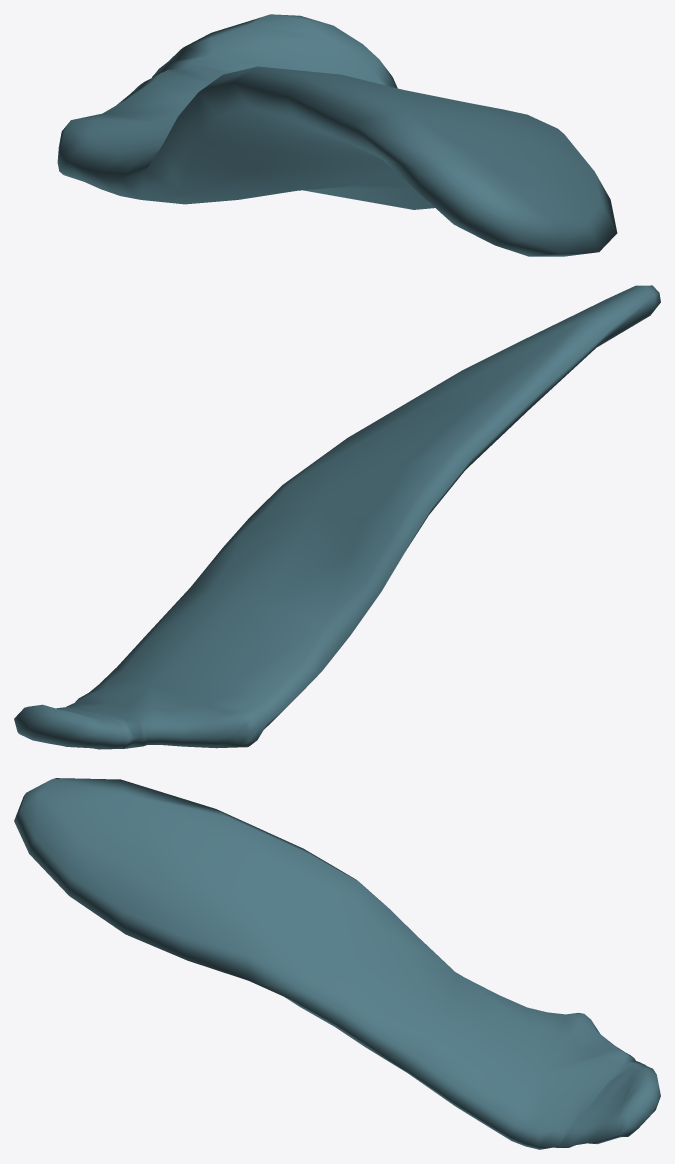
The model's file is Flexor_digiti_minimi_foot_5th_proximal_phalanx_right.glb.
The picture shows the model from 3 angles, top to bottom: view 1: azimuth 30°, elevation 25°; view 2: azimuth 150°, elevation 25°; view 3: azimuth 270°, elevation 25°; orthographic projection. The views are drawn at different scales.
Visible parts, largest first — view 1: Flexor_digiti_minimi_of_foot_on_5th_proximal_phalanx.r_Gener; view 2: Flexor_digiti_minimi_of_foot_on_5th_proximal_phalanx.r_Gener; view 3: Flexor_digiti_minimi_of_foot_on_5th_proximal_phalanx.r_Gener.
Part boxes in pixels (bbox=[...]): Flexor_digiti_minimi_of_foot_on_5th_proximal_phalanx.r_Gener: bbox=[57, 14, 617, 256]; Flexor_digiti_minimi_of_foot_on_5th_proximal_phalanx.r_Gener: bbox=[14, 285, 660, 749]; Flexor_digiti_minimi_of_foot_on_5th_proximal_phalanx.r_Gener: bbox=[14, 778, 660, 1149].
Bounding box in the file's own units: 0.00476 × 0.0043 × 0.00991.
